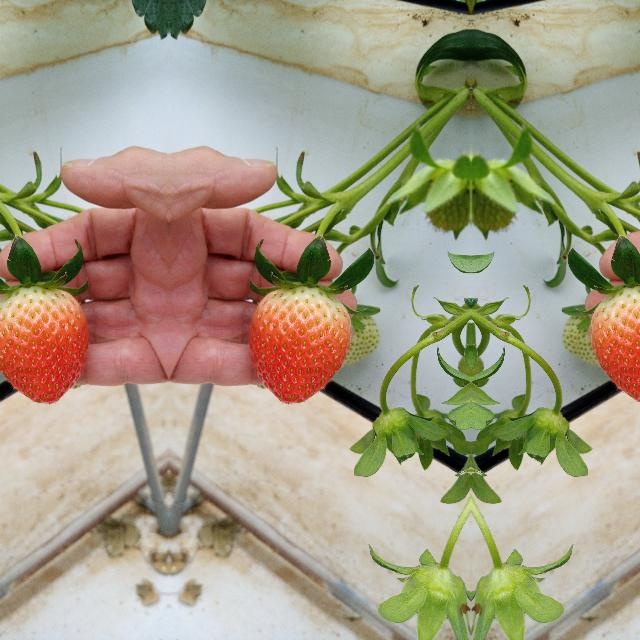Health_100: (247, 285, 351, 405), (0, 285, 89, 405), (590, 285, 640, 405)
